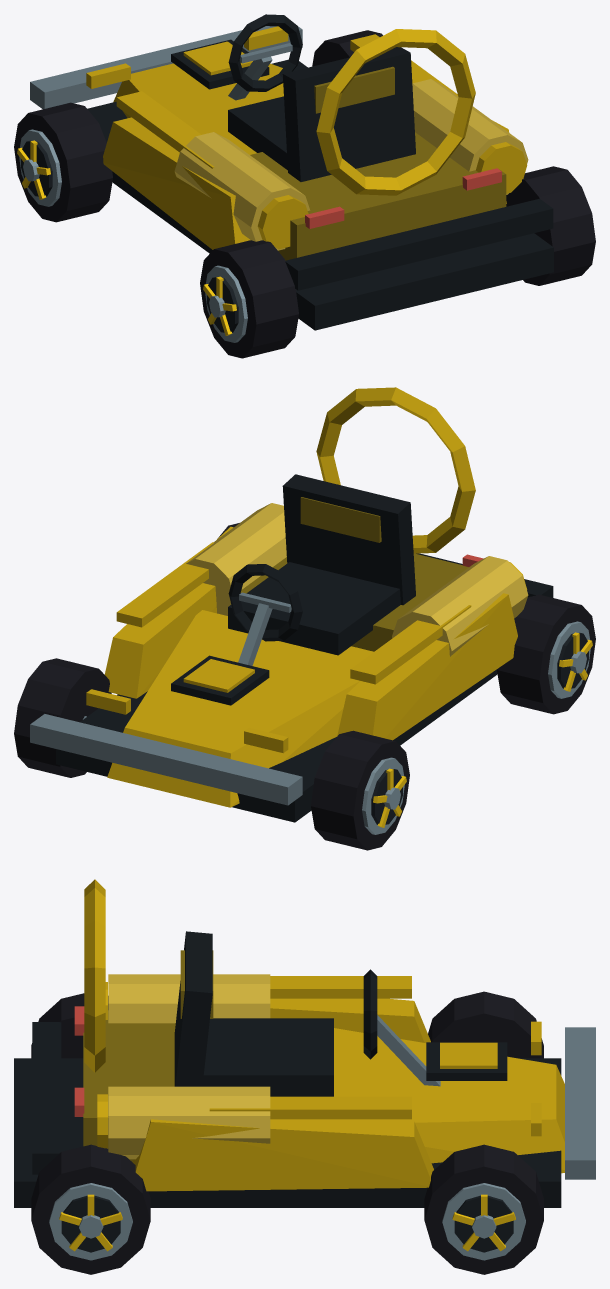
The model's file is kart.glb.
The picture shows the model from 3 angles, top to bottom: view 1: azimuth 30°, elevation 25°; view 2: azimuth 150°, elevation 25°; view 3: azimuth 270°, elevation 25°; orthographic projection. The views are drawn at different scales.
Parts seen in each view (by area): view 1: chassis, wheel-rear-left, wheel-front-left, wheel-rear-right, wheel-front-right; view 2: chassis, wheel-front-left, wheel-rear-left, wheel-front-right; view 3: chassis, wheel-front-right, wheel-rear-right, wheel-front-left, wheel-rear-left.
Part boxes in pixels (<box>): chassis: <box>30,14,553,330</box>; wheel-rear-left: <box>200,240,298,358</box>; wheel-front-left: <box>14,102,112,222</box>; wheel-rear-right: <box>506,166,595,285</box>; wheel-front-right: <box>312,30,382,66</box>; chassis: <box>30,387,553,822</box>; wheel-front-left: <box>311,730,409,850</box>; wheel-rear-left: <box>497,594,595,714</box>; wheel-front-right: <box>14,658,111,777</box>; chassis: <box>14,879,595,1207</box>; wheel-front-right: <box>424,1144,543,1274</box>; wheel-rear-right: <box>31,1144,150,1274</box>; wheel-front-left: <box>428,991,543,1058</box>; wheel-rear-left: <box>31,993,108,1058</box>.
Bounding box in the file's own units: 2.32 × 1.72 × 3.02.
